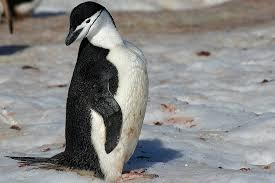chinstrap: (34, 0, 159, 183)
